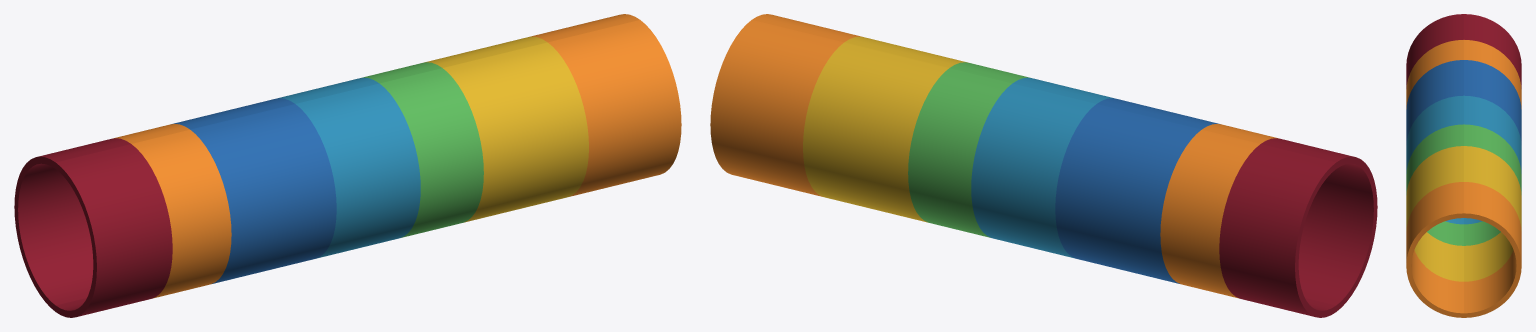
Rendered from vacuum_ejector_pressure.glb.
3 renders of one model, left to right at view 1: azimuth 30°, elevation 25°; view 2: azimuth 150°, elevation 25°; view 3: azimuth 270°, elevation 25°, orthographic. The views are drawn at different scales.
Parts seen in each view (by area): view 1: bands__front, bands__back; view 2: bands__back, bands__front; view 3: bands__back, bands__front.
Boxes of the visible parts, x1,y1,x2,y2 form: bands__front: [55, 20, 681, 317]; bands__back: [14, 14, 639, 311]; bands__back: [710, 20, 1336, 317]; bands__front: [752, 14, 1377, 311]; bands__back: [1464, 14, 1521, 317]; bands__front: [1406, 14, 1463, 317].
Bounding box in the file's own units: 1.39 × 0.34 × 0.34.
